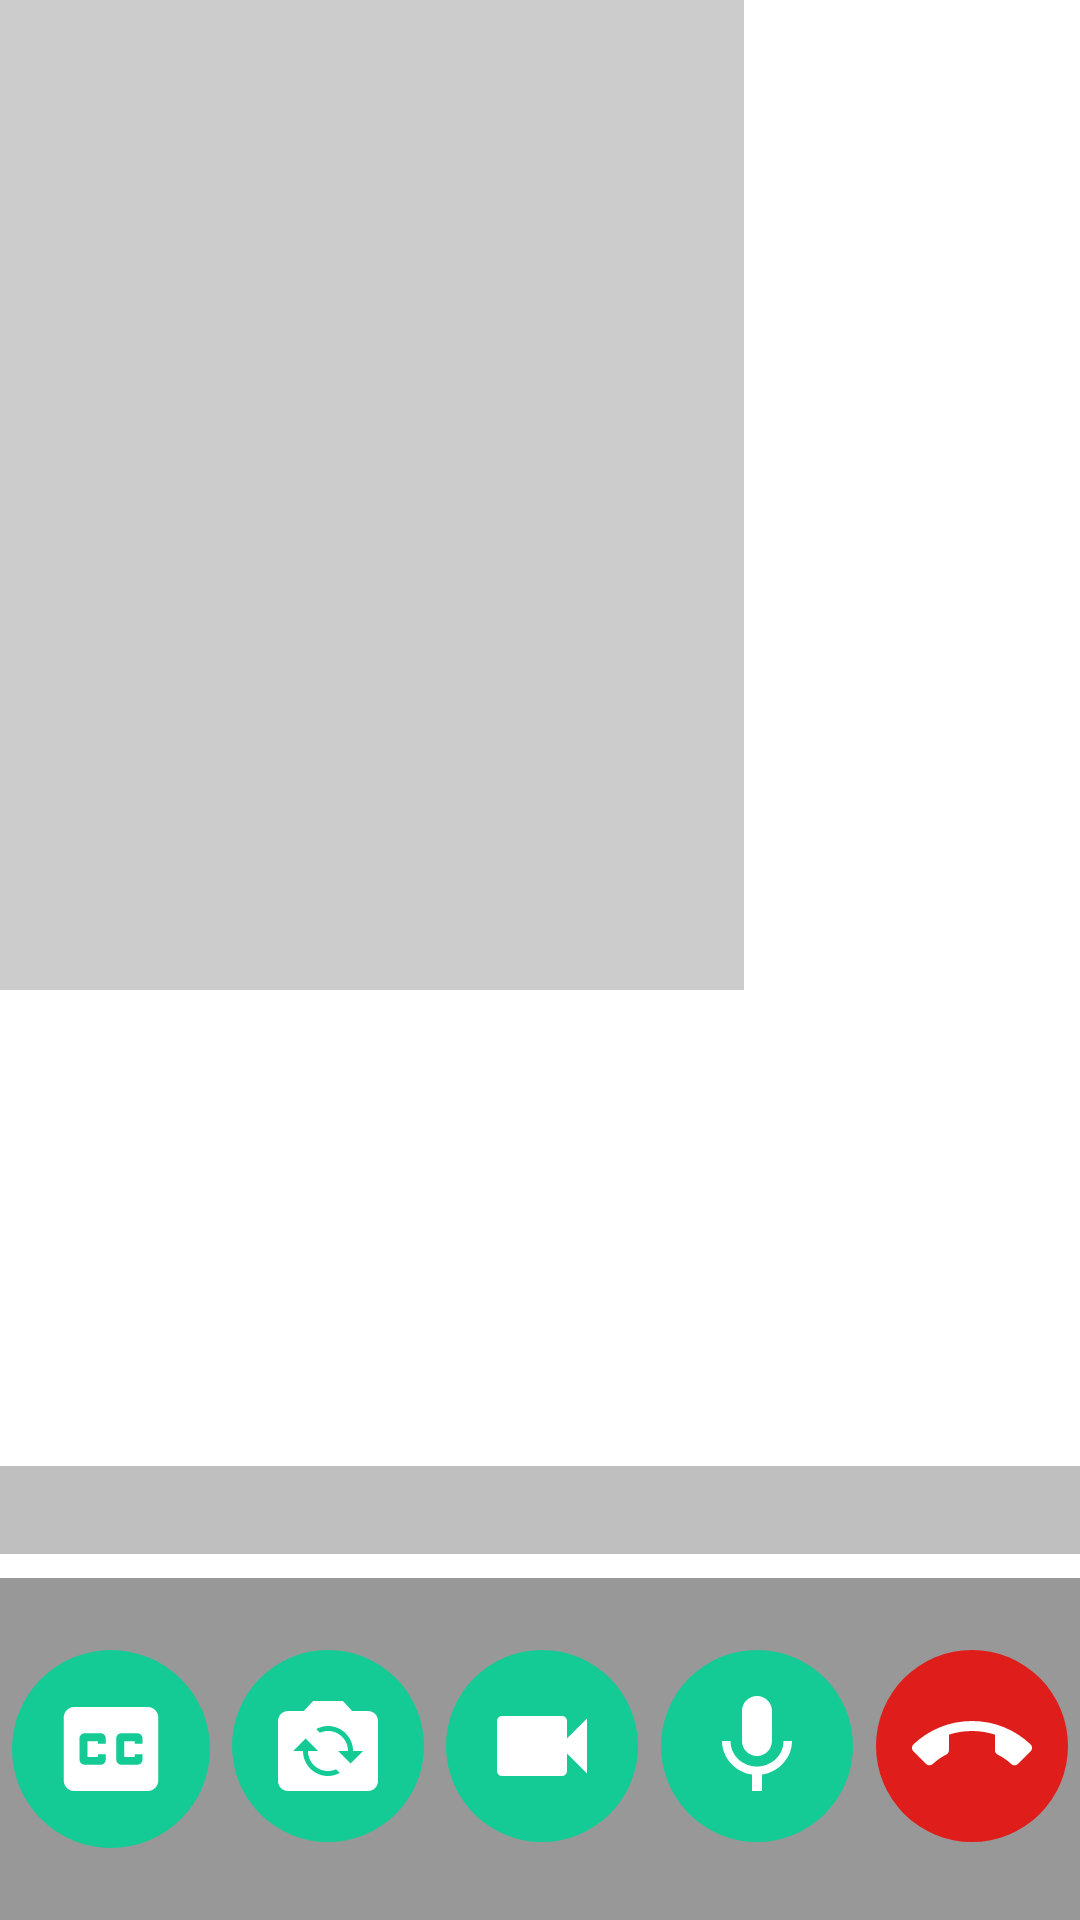

Named icons in this screenshot (1080x1920) and their centers, (x,y):
closed caption: (111,1749)
endcall: (972,1746)
mic on: (757,1746)
switchcamera: (328,1746)
video on: (542,1746)
